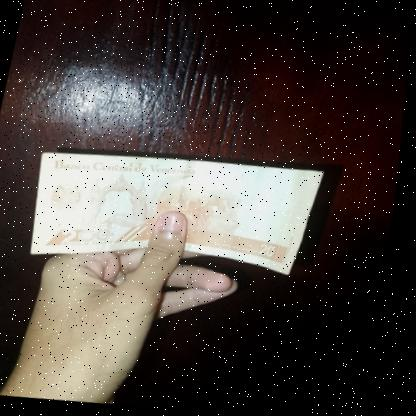twenty-back-vef: (22, 138, 331, 288)
